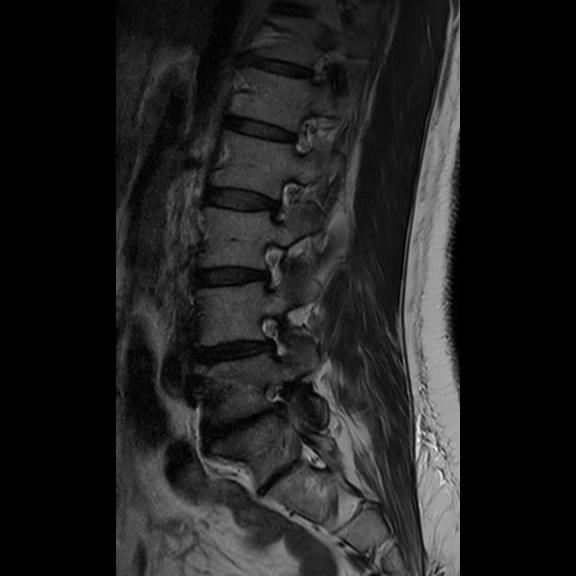RFS0: (252, 301, 312, 366), (253, 235, 305, 297)
